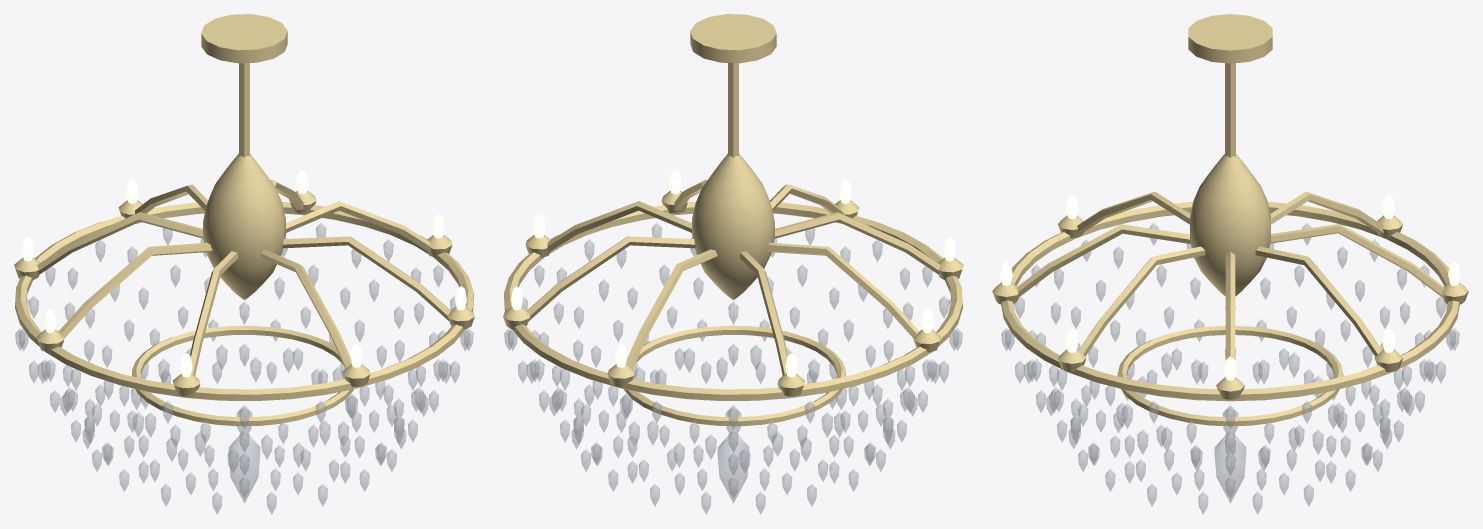
The model's file is chandelier_gold_cascade.glb.
3 renders of one model, left to right at view 1: azimuth 30°, elevation 25°; view 2: azimuth 150°, elevation 25°; view 3: azimuth 270°, elevation 25°, orthographic.
Parts seen in each view (by area): view 1: chandelier_gold_cascade; view 2: chandelier_gold_cascade; view 3: chandelier_gold_cascade.
Boxes of the visible parts, x1,y1,x2,y2 form: chandelier_gold_cascade: (14,14,474,514); chandelier_gold_cascade: (503,14,963,514); chandelier_gold_cascade: (992,14,1468,514).
Bounding box in the file's own units: 1.32 × 1.44 × 1.32.
